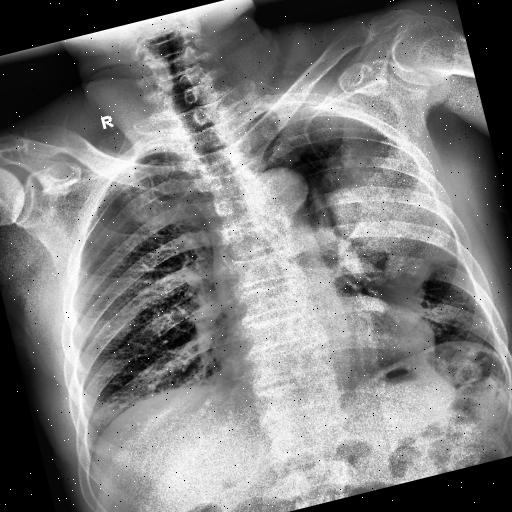0- Aortic enlargement: (237, 160, 315, 224), (244, 160, 310, 218)
11- Pleural thickening: (300, 110, 474, 308)
3- Cardiomegaly: (216, 304, 438, 398)
4- Consolidation: (315, 126, 481, 302)
7- Lung Opacity: (300, 110, 474, 308), (315, 126, 481, 302)
8- Nodule-Mass: (300, 110, 474, 308), (315, 126, 481, 302), (310, 127, 467, 300)
